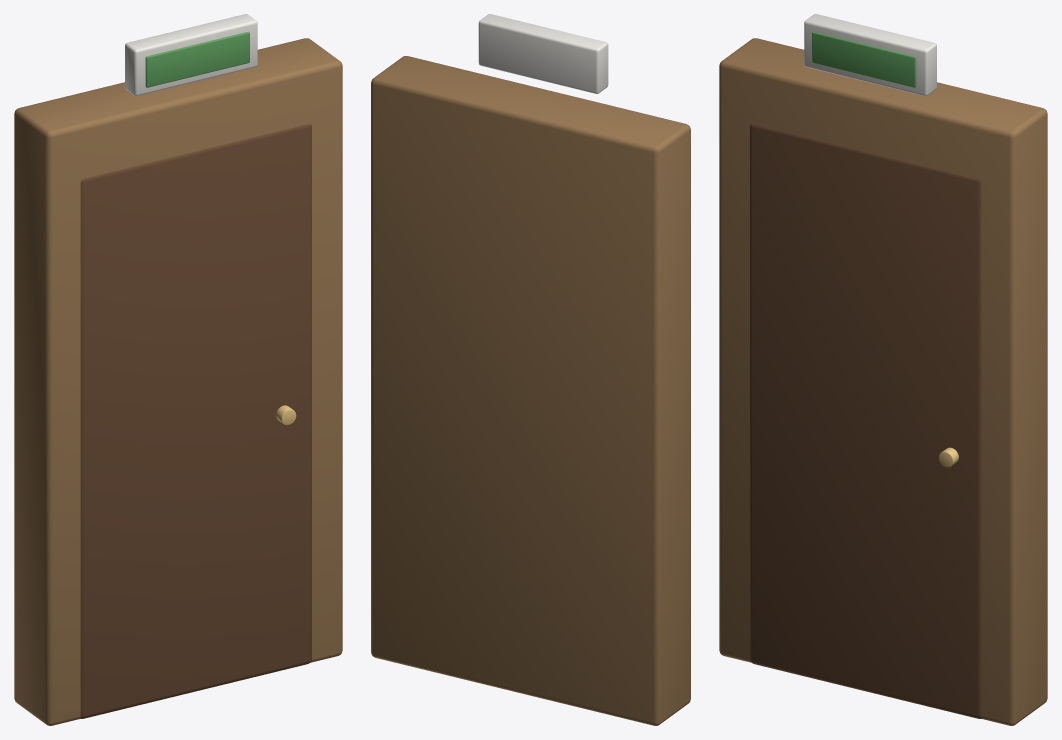
Rendered from exitdoor.glb.
3 renders of one model, left to right at view 1: azimuth 30°, elevation 25°; view 2: azimuth 150°, elevation 25°; view 3: azimuth 330°, elevation 25°, orthographic. The views are drawn at different scales.
Visible parts, largest first — view 1: door, frame, sign, signface; view 2: frame, sign; view 3: door, frame, sign, signface.
Part boxes in pixels (<box>): door: <box>80,124,311,718</box>; frame: <box>14,38,342,725</box>; sign: <box>125,14,257,95</box>; signface: <box>145,31,249,87</box>; frame: <box>371,56,690,725</box>; sign: <box>478,14,608,93</box>; door: <box>750,124,981,718</box>; frame: <box>719,38,1047,725</box>; sign: <box>804,14,936,95</box>; signface: <box>812,31,916,87</box>.
Size of the model in its own units: 1.2 by 2.54 by 0.295.
